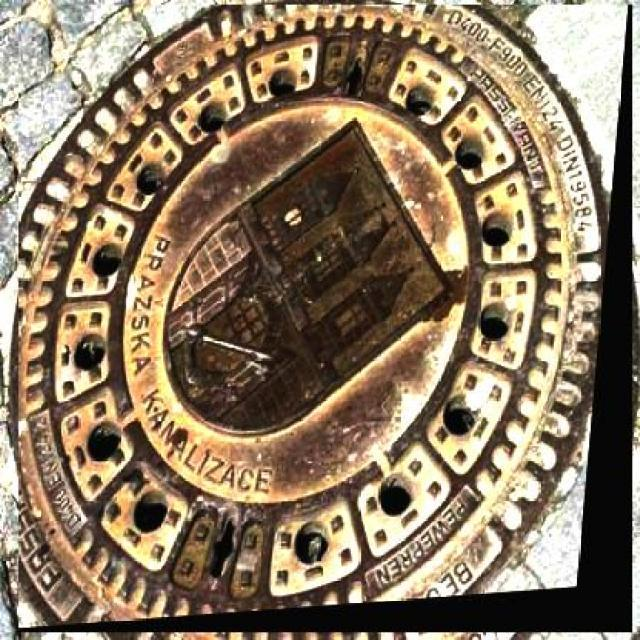Manhole: (18, 5, 632, 632)
